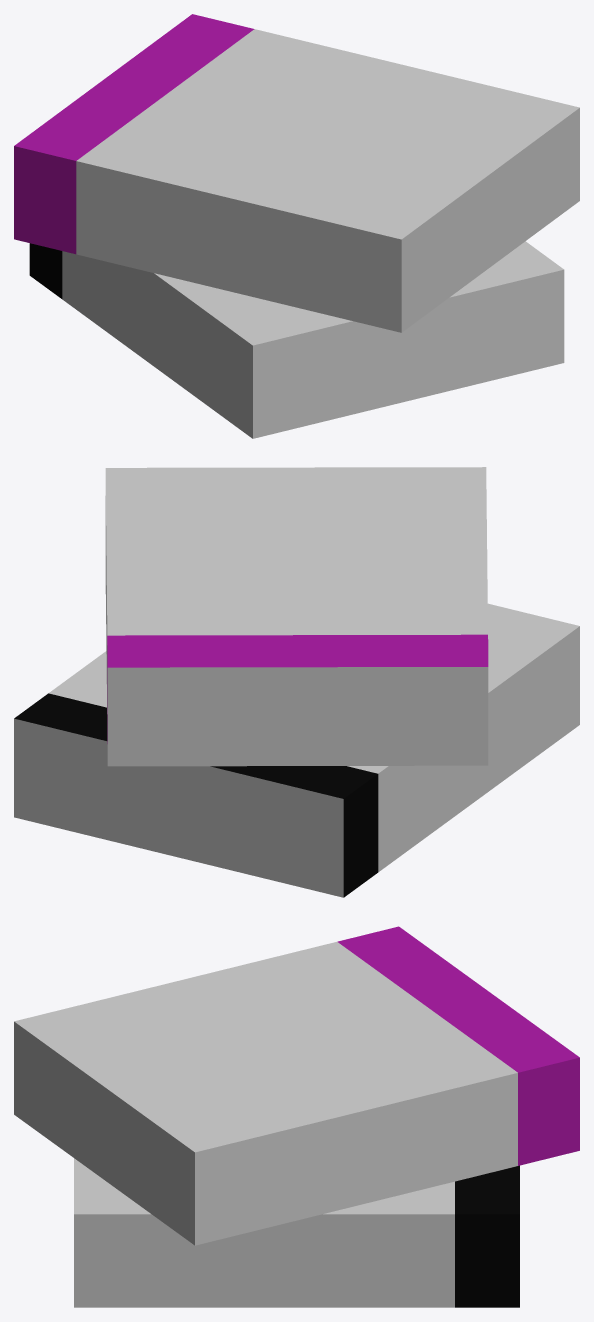
Rendered from ink cartridge.fbx.
The picture shows the model from 3 angles, top to bottom: view 1: azimuth 30°, elevation 25°; view 2: azimuth 150°, elevation 25°; view 3: azimuth 270°, elevation 25°; orthographic projection. The views are drawn at different scales.
Parts seen in each view (by area): view 1: pCube1600, pCube1599; view 2: pCube1600, pCube1599; view 3: pCube1600, pCube1599.
Boxes of the visible parts, <box> form: pCube1600: <box>14,14,579,332</box>; pCube1599: <box>29,241,564,438</box>; pCube1600: <box>105,467,488,766</box>; pCube1599: <box>14,603,579,897</box>; pCube1600: <box>14,926,579,1245</box>; pCube1599: <box>74,1158,519,1307</box>.
Size of the model in its own units: 0.1782 by 0.0707 by 0.1886.
